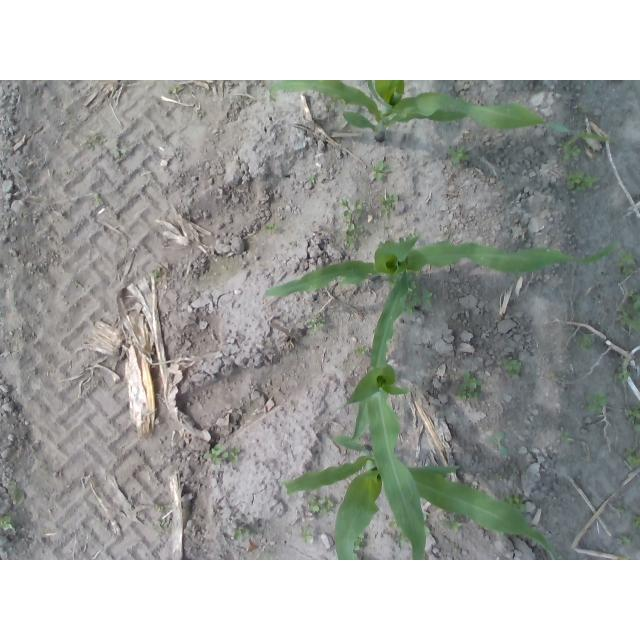Maize: (285, 434, 556, 560), (337, 270, 427, 560), (263, 235, 622, 298), (269, 80, 621, 144)
Weeds: (341, 196, 364, 248), (616, 289, 640, 332), (403, 269, 422, 316), (454, 371, 483, 401), (202, 443, 239, 465), (566, 170, 598, 191), (389, 516, 409, 547), (307, 493, 334, 515), (616, 248, 636, 276), (585, 391, 609, 414), (499, 493, 525, 513), (626, 403, 640, 438), (558, 140, 581, 160), (446, 144, 469, 164), (381, 194, 400, 217), (489, 431, 507, 455), (7, 480, 24, 505), (502, 358, 523, 378), (369, 161, 391, 180), (352, 533, 367, 560), (306, 312, 326, 332), (442, 515, 462, 532), (624, 447, 640, 468), (613, 367, 631, 385), (575, 334, 593, 352), (85, 133, 104, 150), (110, 140, 126, 159), (386, 271, 402, 289), (299, 525, 314, 543), (234, 527, 251, 541), (0, 514, 14, 530), (422, 513, 432, 534), (422, 290, 434, 307), (354, 345, 370, 357), (632, 513, 640, 531), (576, 102, 588, 114), (154, 520, 169, 529), (399, 234, 414, 243), (620, 537, 632, 548), (151, 270, 162, 282), (265, 224, 279, 233), (308, 172, 318, 184), (378, 239, 395, 246), (617, 505, 627, 516), (559, 432, 570, 442), (154, 504, 166, 513), (171, 86, 183, 95), (91, 194, 101, 202), (268, 94, 276, 102), (494, 470, 502, 478), (496, 531, 505, 538), (329, 100, 336, 109), (556, 556, 564, 561)
